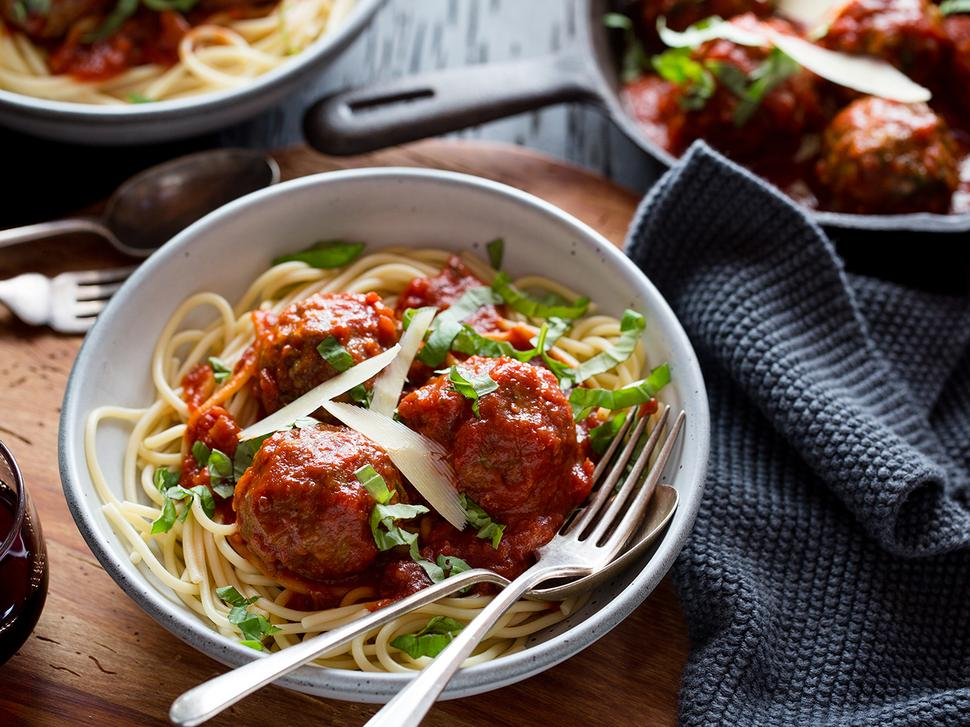meatballs: (243, 430, 406, 586), (429, 359, 594, 511), (246, 293, 411, 414)
plain spaghetti: (124, 266, 266, 618), (251, 238, 600, 338)
